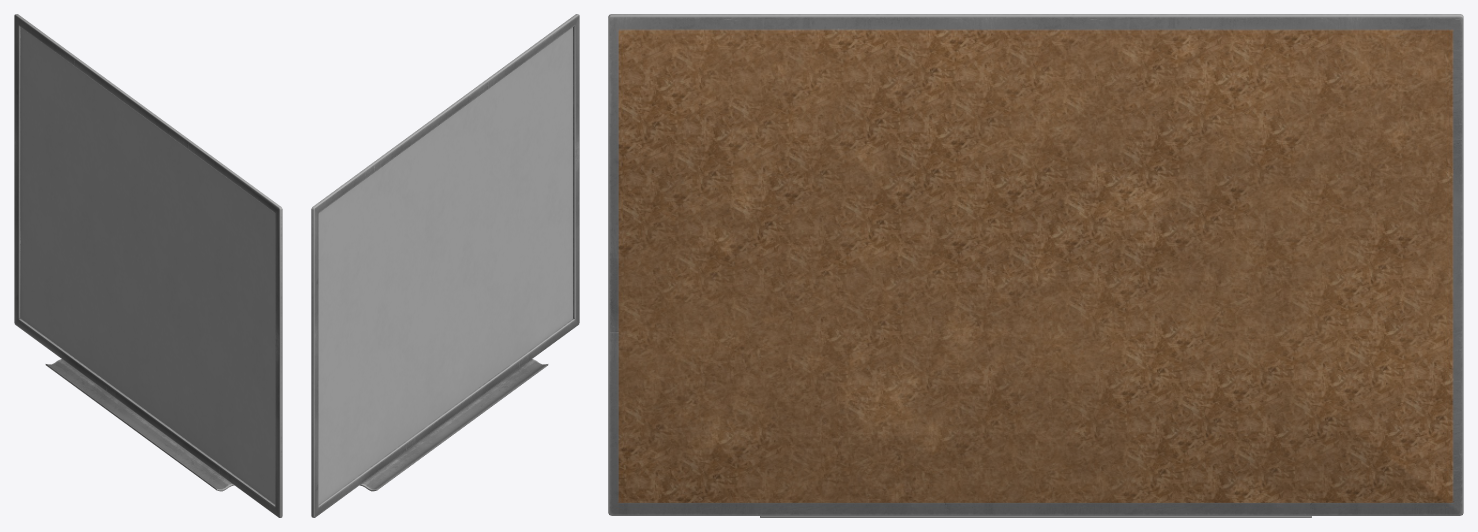
The model's file is Tableau-Blanc.fbx.
3 renders of one model, left to right at view 1: azimuth 30°, elevation 25°; view 2: azimuth 150°, elevation 25°; view 3: azimuth 270°, elevation 25°, orthographic. The views are drawn at different scales.
Parts seen in each view (by area): view 1: Whiteboard; view 2: Whiteboard; view 3: Whiteboard.
Boxes of the visible parts, bbox=[...] form: Whiteboard: bbox=[14, 14, 282, 517]; Whiteboard: bbox=[311, 14, 579, 517]; Whiteboard: bbox=[608, 14, 1463, 517].
Size of the model in its own units: 6.24 by 99.88 by 153.
1 material, 1 textured.
